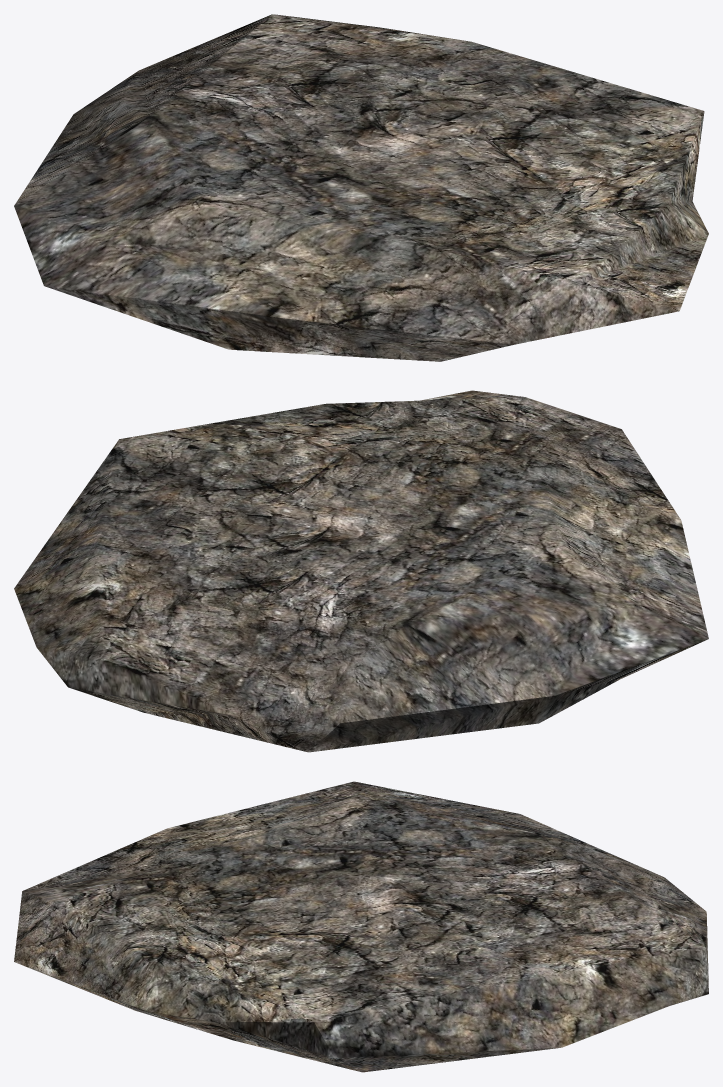
The model's file is pir_m_prp_cav_rock_flatRound.fbx.
3 views of the same model, one above another, from view 1: azimuth 30°, elevation 25°; view 2: azimuth 150°, elevation 25°; view 3: azimuth 270°, elevation 25° (orthographic). The views are drawn at different scales.
Parts seen in each view (by area): view 1: lod_high; view 2: lod_high; view 3: lod_high.
Boxes of the visible parts, left/top/right/bottom form: lod_high: left=14, top=14, right=708, bottom=361; lod_high: left=14, top=390, right=708, bottom=752; lod_high: left=14, top=781, right=708, bottom=1072.
Bounding box in the file's own units: 6443 × 1118 × 6946.
1 material, 1 textured.
